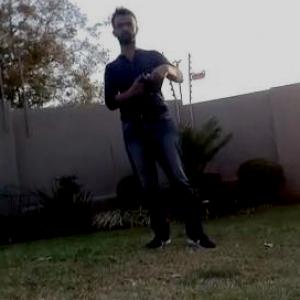follow: (100, 0, 222, 251)
